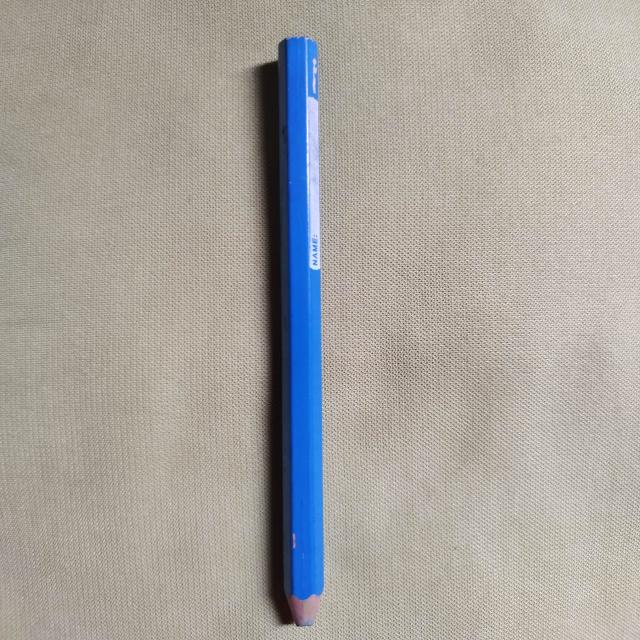pencil: (278, 36, 324, 626)
